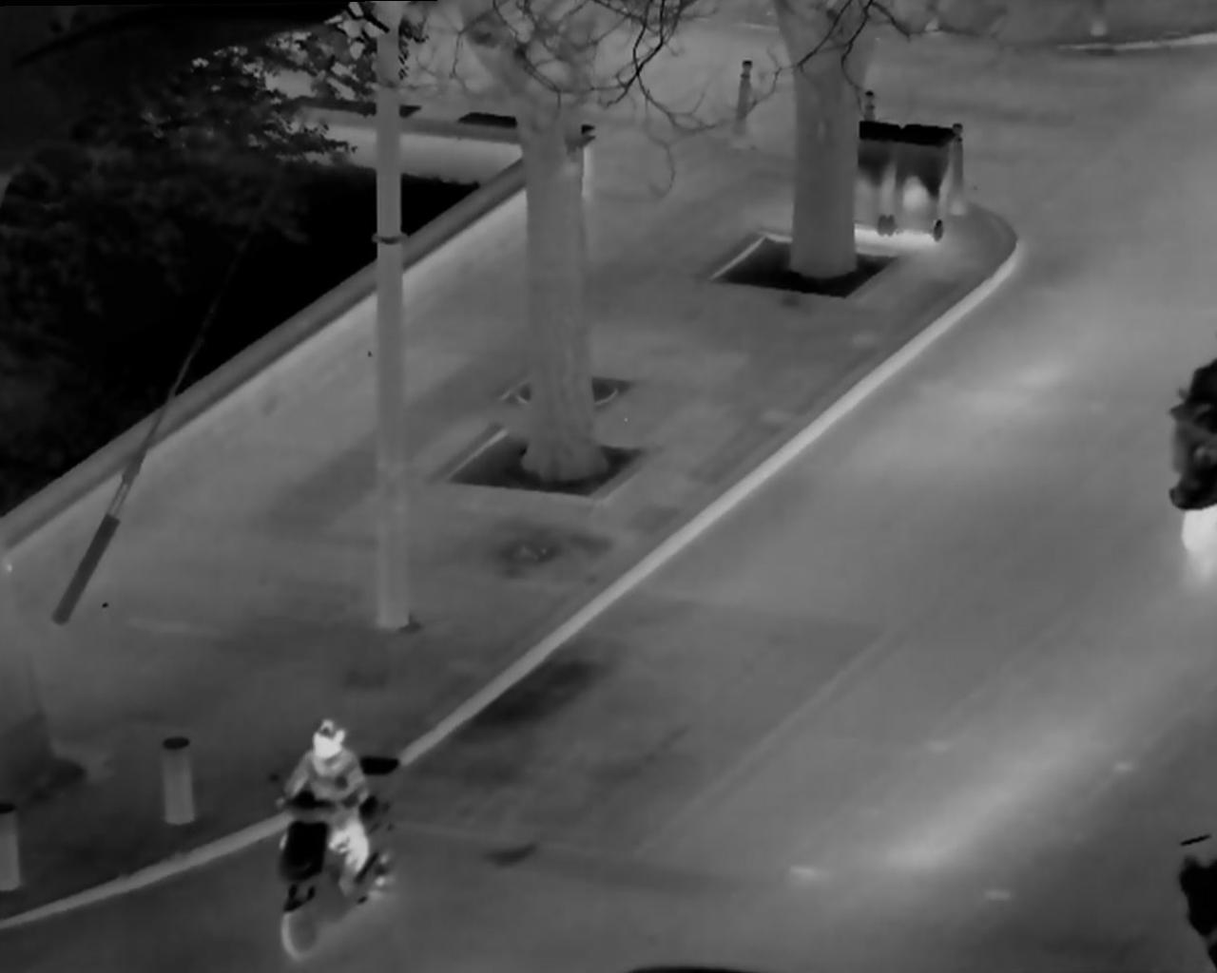person: (264, 707, 391, 910)
